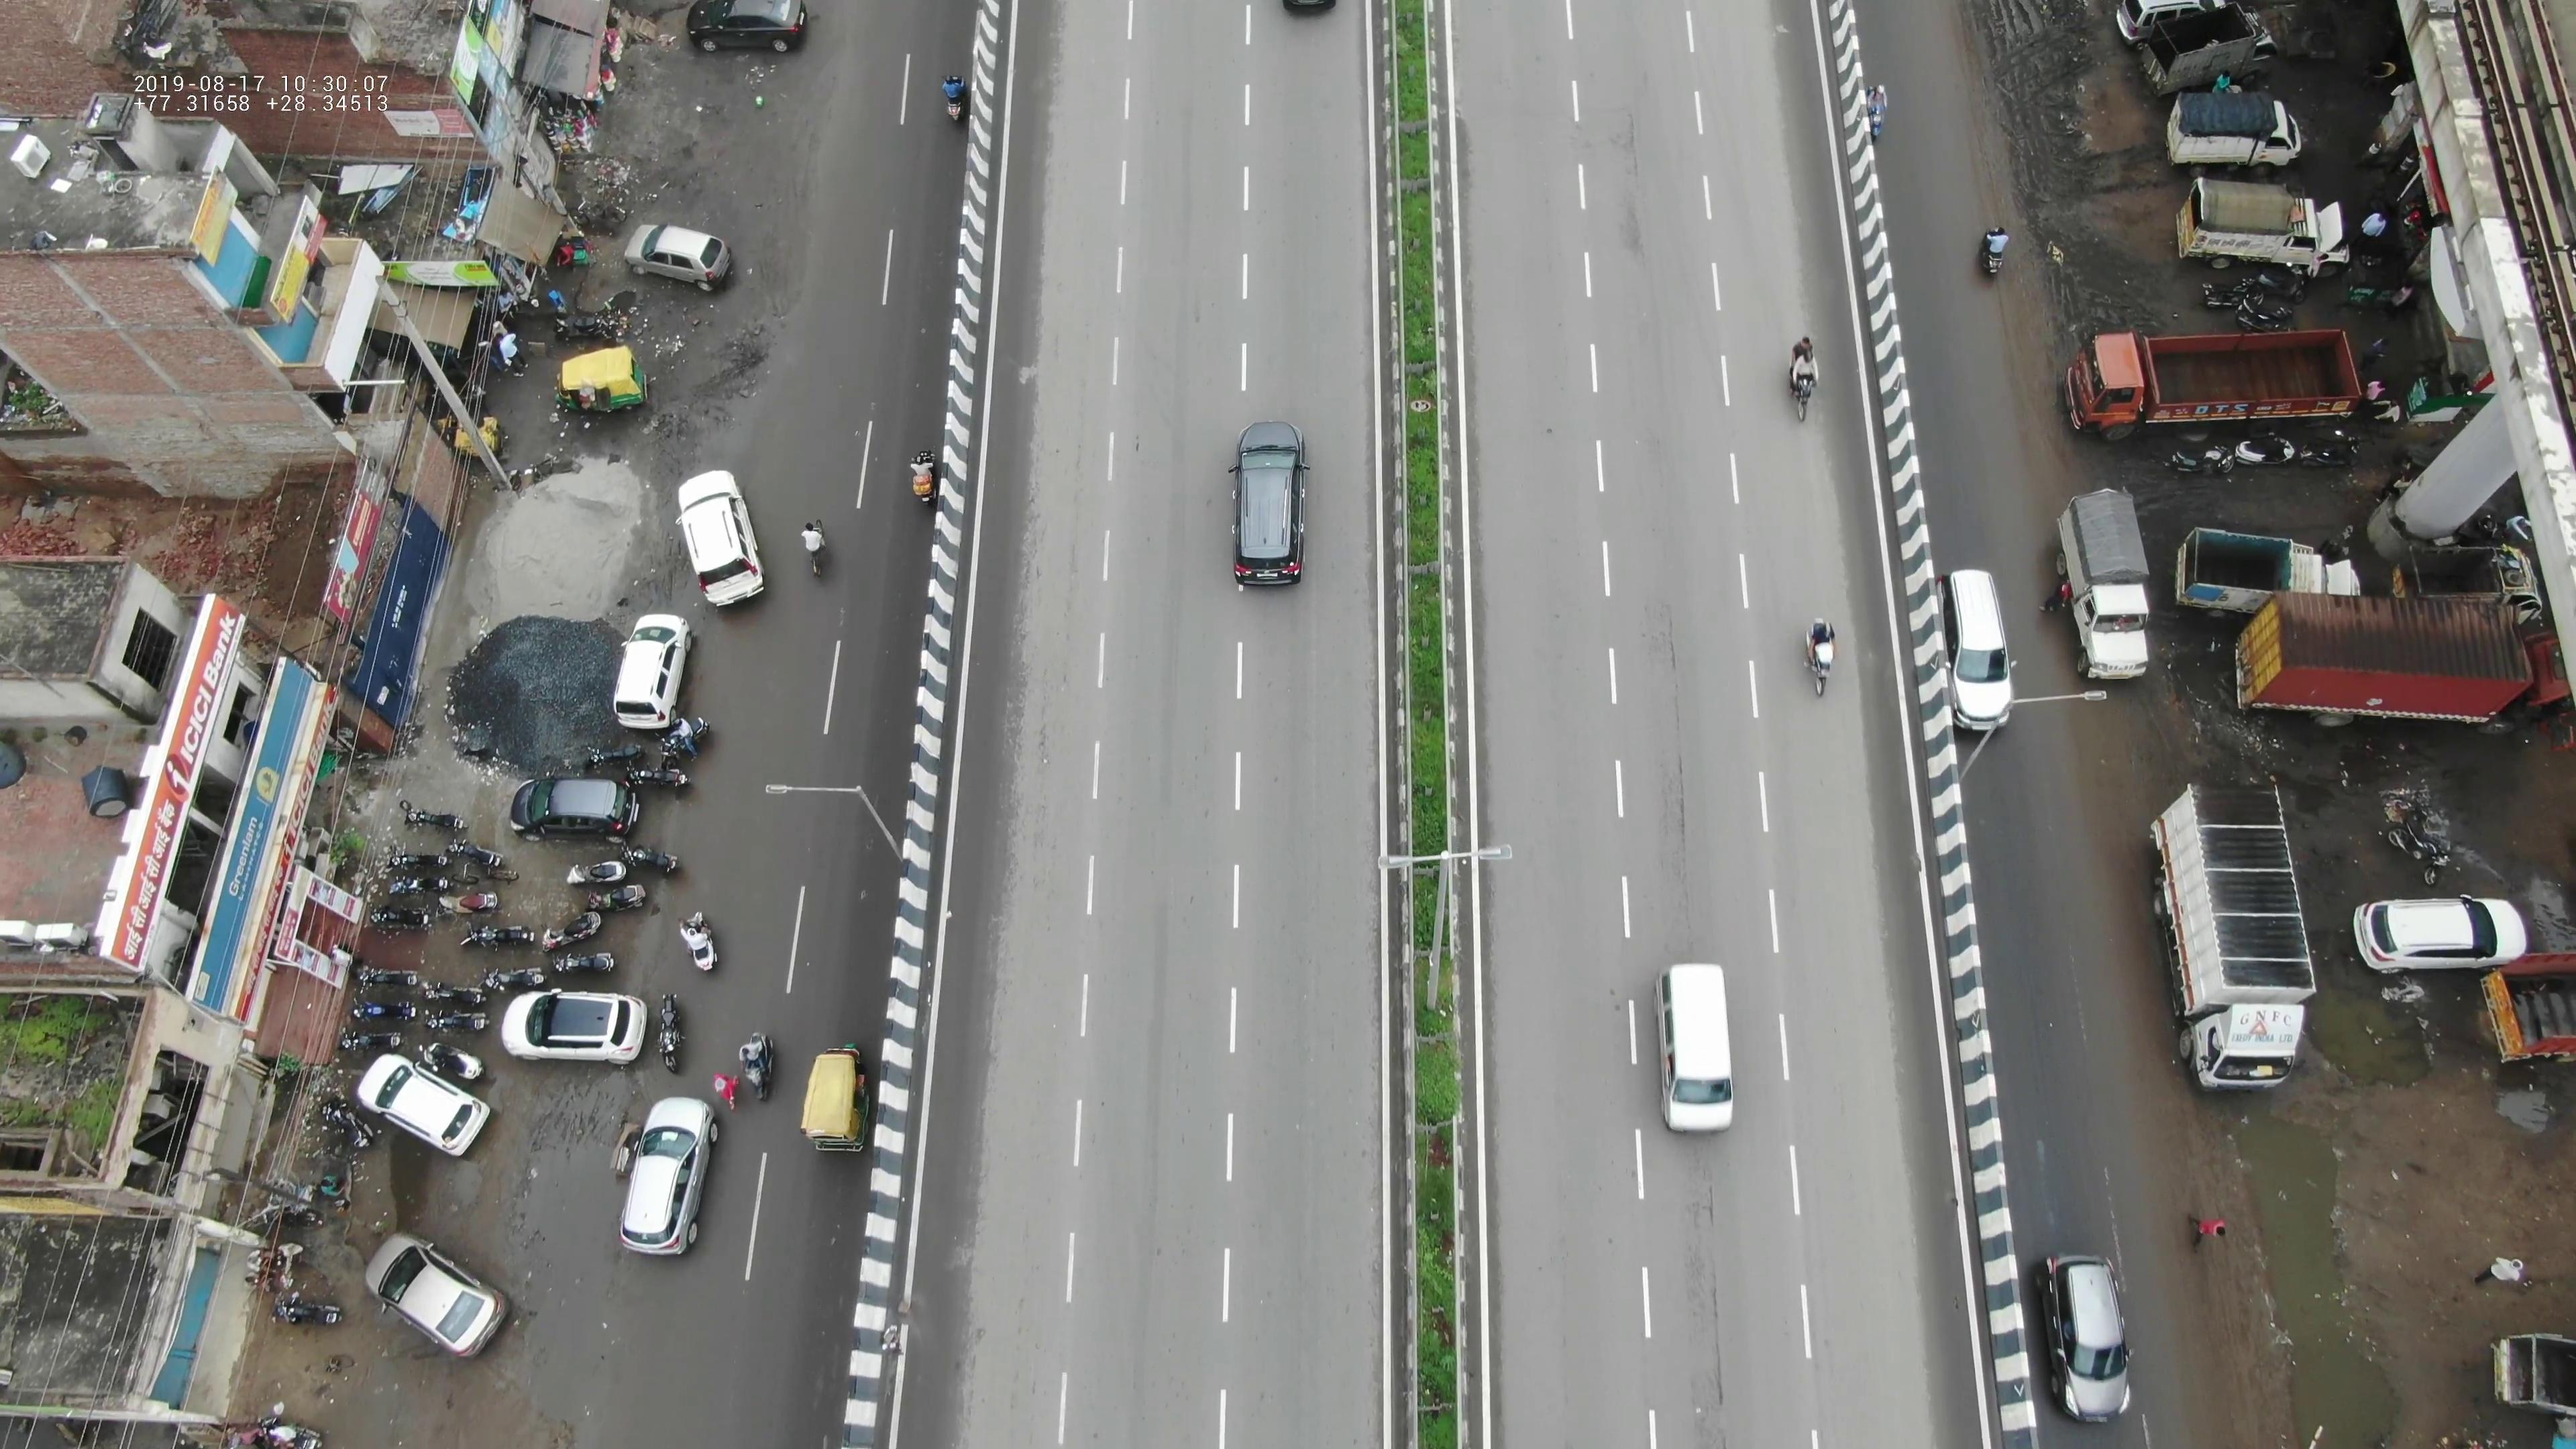Muddy_road: (1973, 7, 2121, 246)
Ravelling: (1007, 610, 1086, 867), (1658, 1150, 1737, 1398), (1647, 580, 1704, 909), (1608, 51, 1658, 253)
Waterlogging: (2235, 1113, 2429, 1449)
